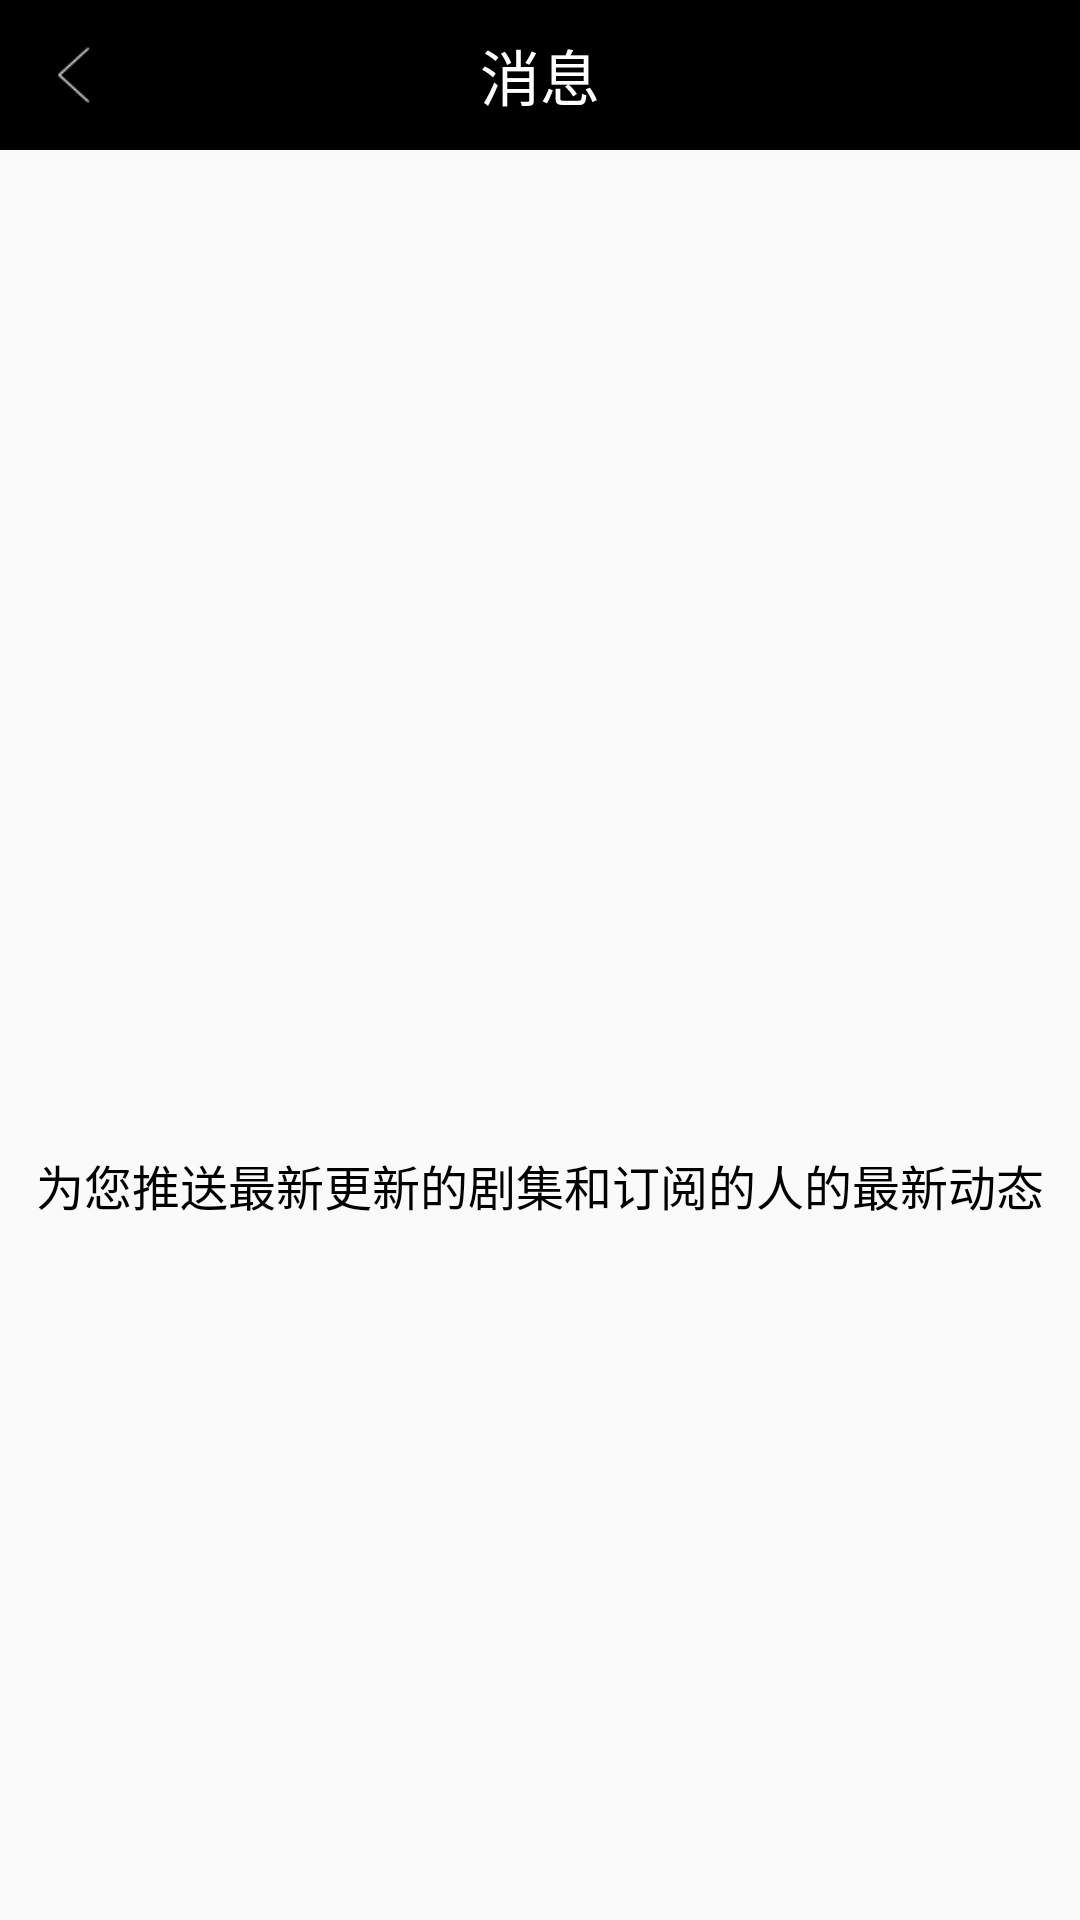

Icon bounding boxes for this 1080 x 1920 phone screenshot, format (x1, y1, x2, y2):
phone account back: (58, 47, 90, 103)
